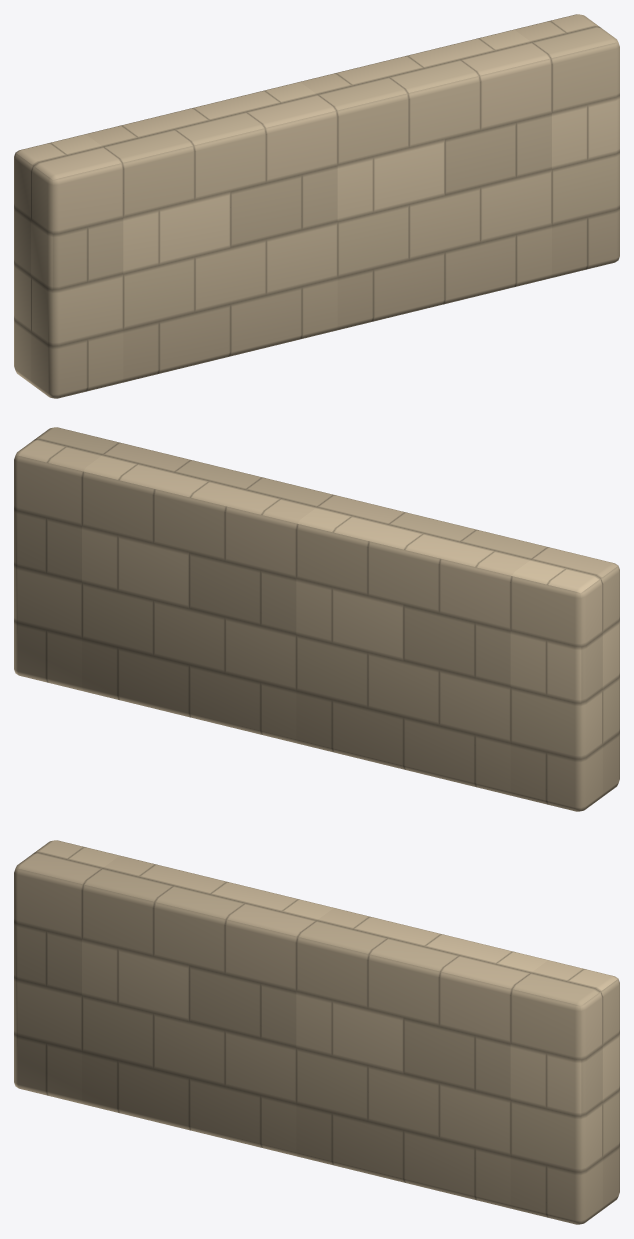
The model's file is quay_wall.gltf.
3 views of the same model, one above another, from view 1: azimuth 30°, elevation 25°; view 2: azimuth 150°, elevation 25°; view 3: azimuth 330°, elevation 25° (orthographic).
Parts seen in each view (by area): view 1: quay_wall_mesh; view 2: quay_wall_mesh; view 3: quay_wall_mesh.
Boxes of the visible parts, x1,y1,x2,y2 form: quay_wall_mesh: [14, 14, 619, 398]; quay_wall_mesh: [14, 427, 619, 811]; quay_wall_mesh: [14, 840, 619, 1224].
Size of what is drawn, in the model's own units: 8 by 3 by 1.
Materials: 1 (1 with a texture image).
